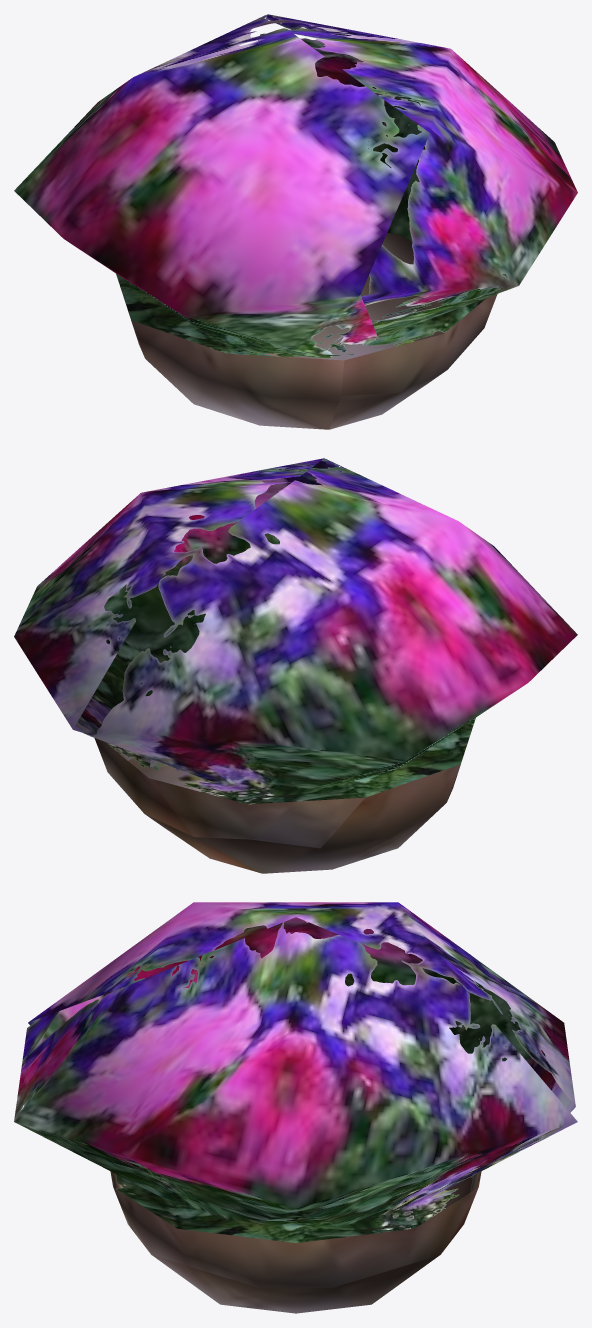
File: missile3.obj
3 views of the same model, one above another, from view 1: azimuth 30°, elevation 25°; view 2: azimuth 150°, elevation 25°; view 3: azimuth 270°, elevation 25° (orthographic). The views are drawn at different scales.
Parts seen in each view (by area): view 1: Icosphere; view 2: Icosphere; view 3: Icosphere.
Part boxes in pixels (x1,y1,x2,y2): Icosphere: (14, 14, 577, 429); Icosphere: (14, 458, 577, 873); Icosphere: (14, 902, 577, 1313).
Bounding box in the file's own units: 2.56 × 1.83 × 2.5.
Materials: 1 (1 with a texture image).
